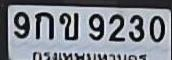0: (149, 15, 164, 41)
2: (108, 13, 123, 41)
3: (128, 14, 143, 41)
9: (13, 11, 29, 38), (88, 13, 103, 40)
A01: (34, 11, 53, 39)
A02: (59, 12, 78, 40)
